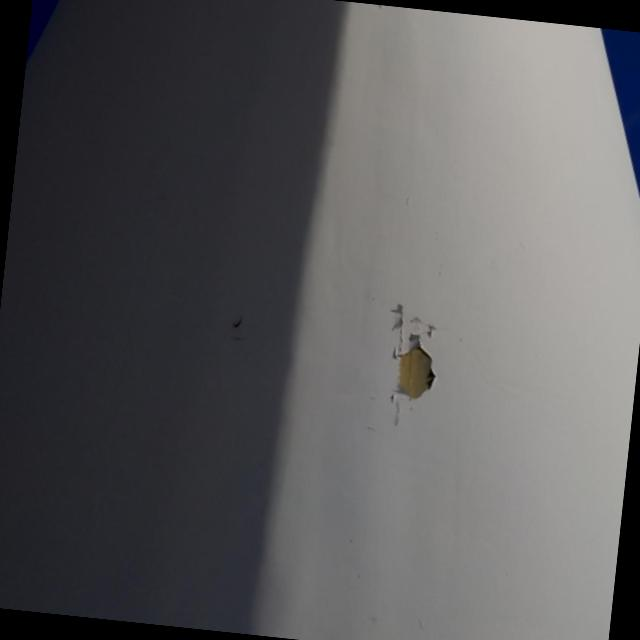corrosion: (374, 316, 451, 412)
